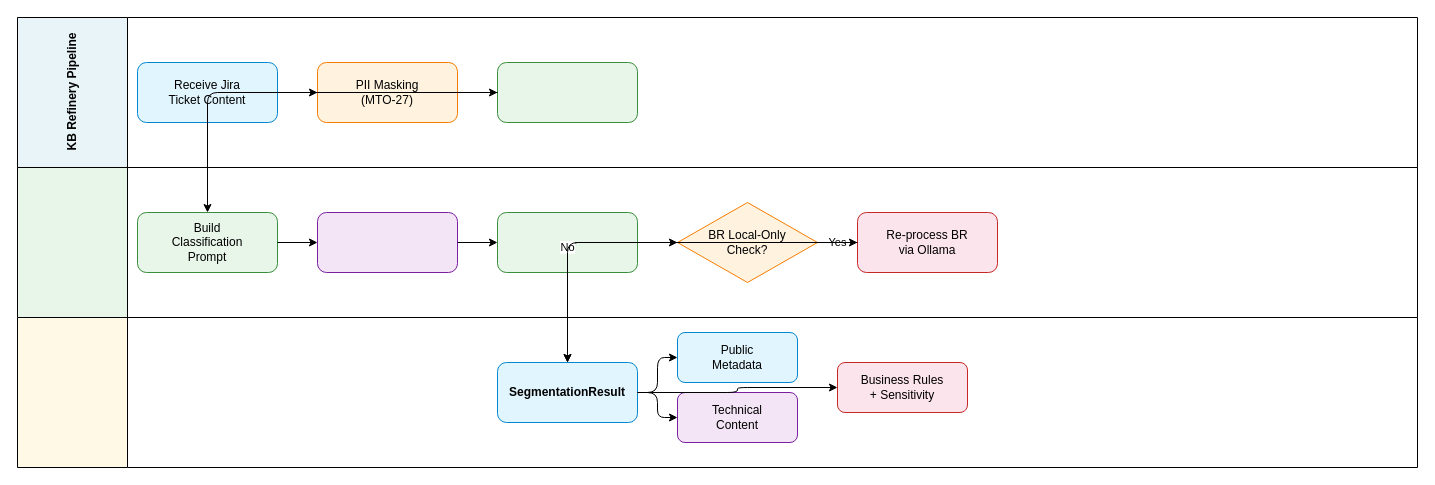
The diagram is 1435 pixels wide and 485 high, and some of its shapes have lost their labels. Here are the shapes that lost their labels. From the top down, the box of each, then its label:
(496, 62, 638, 122): Content Segmentation (MTO-28)
(316, 212, 458, 272): Send to LLM (LangChain4j)
(496, 212, 638, 272): Parse JSON Response
(16, 166, 1418, 318): Content Segmentation Service
(16, 316, 1418, 468): Output
